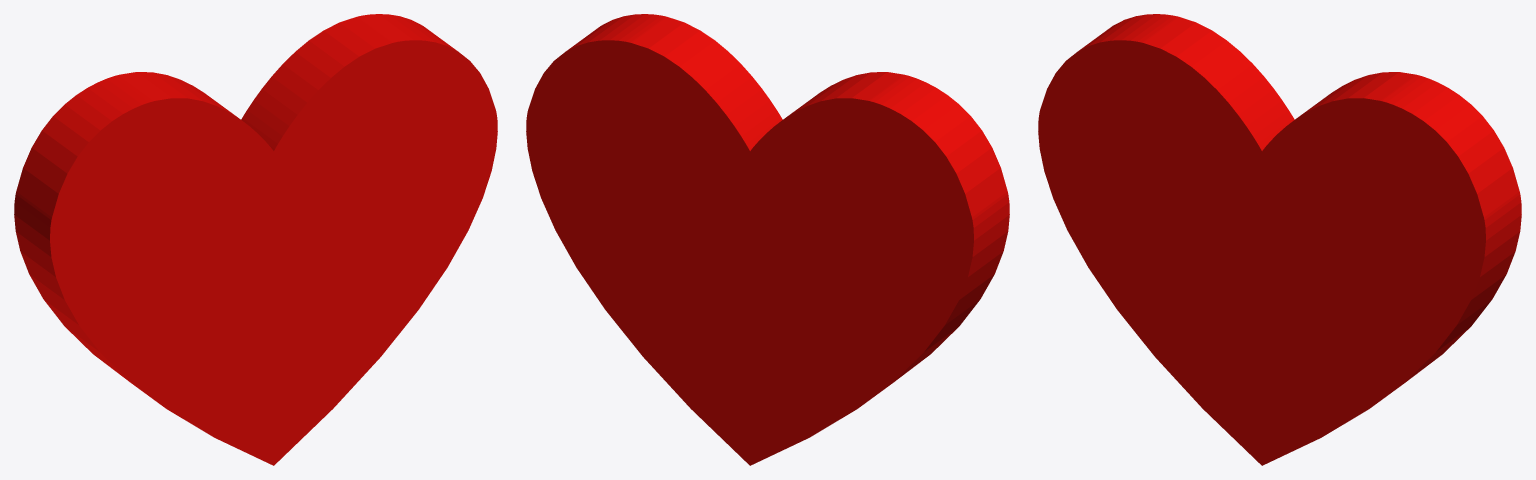
The model's file is item_vida.glb.
The picture shows the model from 3 angles, left to right: view 1: azimuth 30°, elevation 25°; view 2: azimuth 150°, elevation 25°; view 3: azimuth 330°, elevation 25°; orthographic projection.
Parts seen in each view (by area): view 1: heart; view 2: heart; view 3: heart.
Boxes of the visible parts, x1=… form: heart: x1=14, y1=14, x2=497, y2=465; heart: x1=526, y1=14, x2=1009, y2=465; heart: x1=1038, y1=14, x2=1521, y2=465.
Size of the model in its own units: 14.45 by 12.15 by 2.
